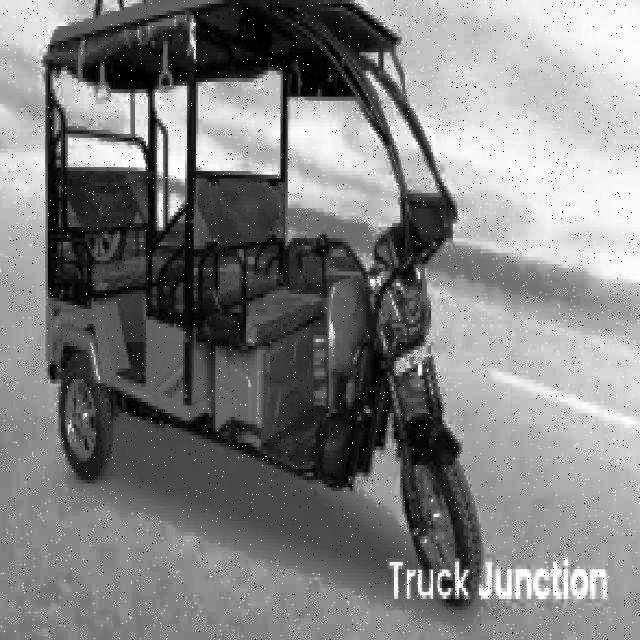Toto: (39, 0, 478, 595)
